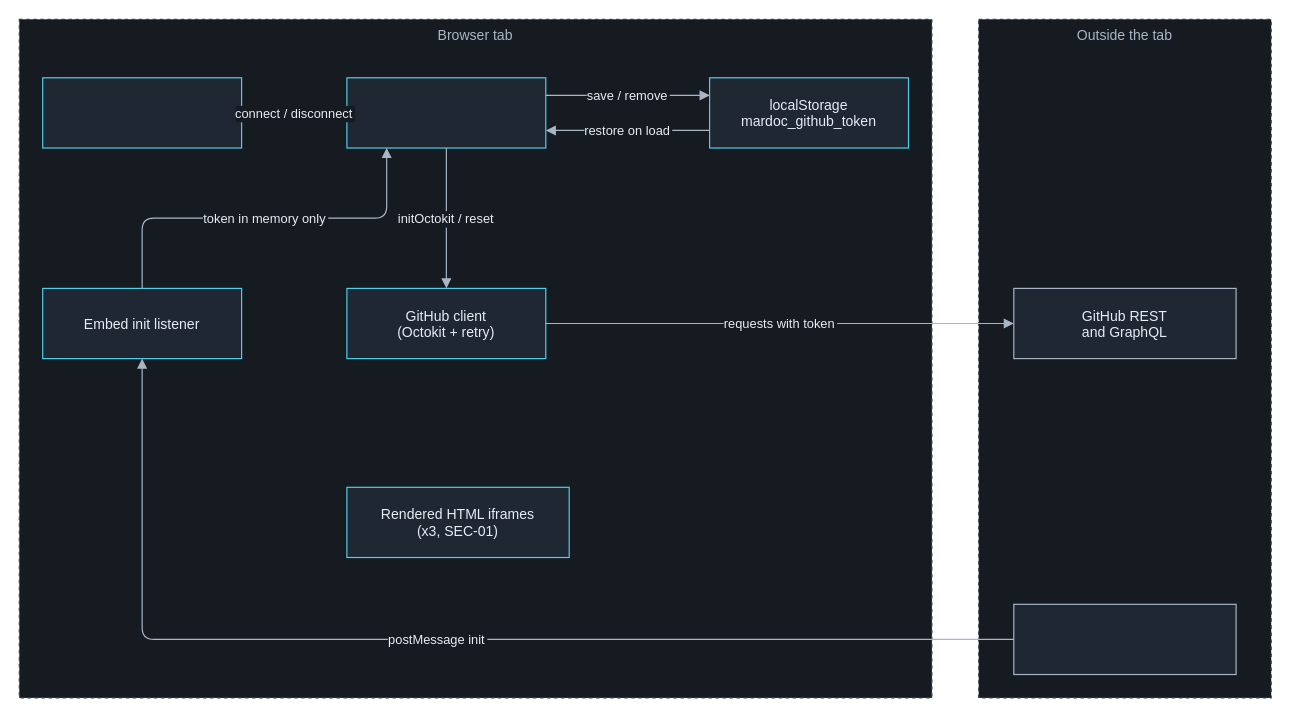
Image size: 1291x717. Some labels were removed from this diagram. Each missing label, with the box of its shape:
Settings panel: (42, 77, 242, 148)
Token state (AppProvider): (346, 77, 546, 148)
VS Code extension (mardoc-vscode): (1013, 603, 1236, 675)
